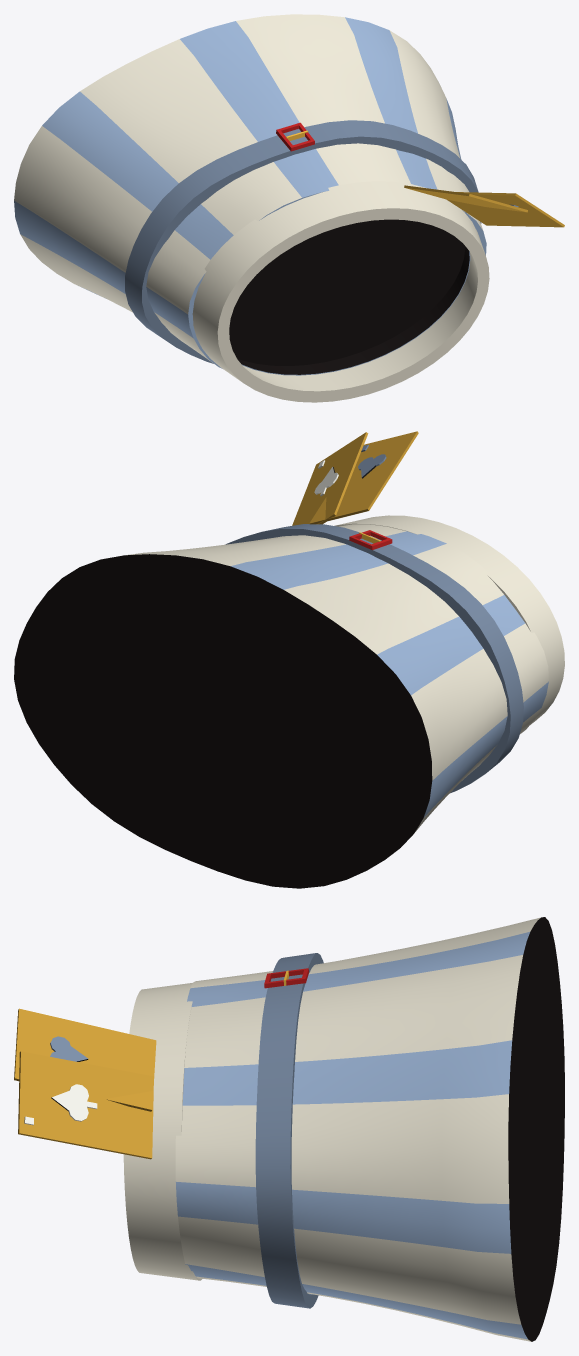
Rendered from Sleeve_Ace.fbx.
The picture shows the model from 3 angles, top to bottom: view 1: azimuth 30°, elevation 25°; view 2: azimuth 150°, elevation 25°; view 3: azimuth 270°, elevation 25°; orthographic projection. The views are drawn at different scales.
Visible parts, largest first — view 1: Sleeve_Ace; view 2: Sleeve_Ace; view 3: Sleeve_Ace.
Part boxes in pixels (left/top/right/bottom): Sleeve_Ace: left=14, top=14, right=564, bottom=402; Sleeve_Ace: left=14, top=431, right=564, bottom=888; Sleeve_Ace: left=14, top=917, right=564, bottom=1341.
Bounding box in the file's own units: 0.9806 × 0.6355 × 0.9186.
1 material, 1 textured.
